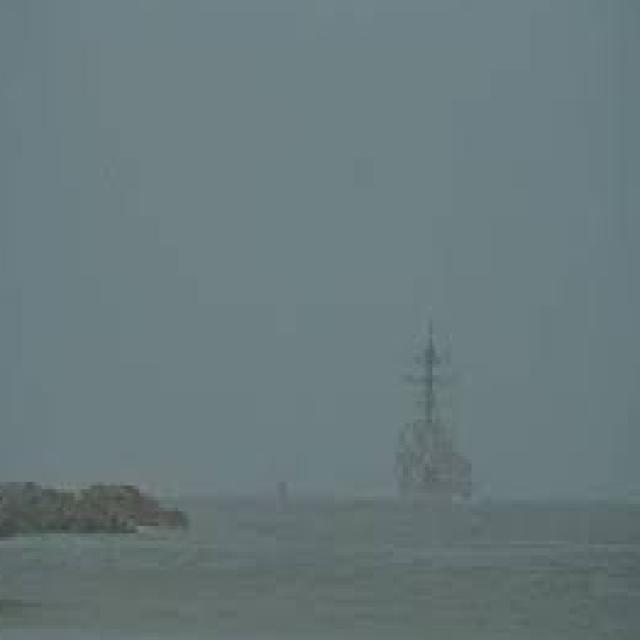fishing boat: (380, 304, 480, 510)
